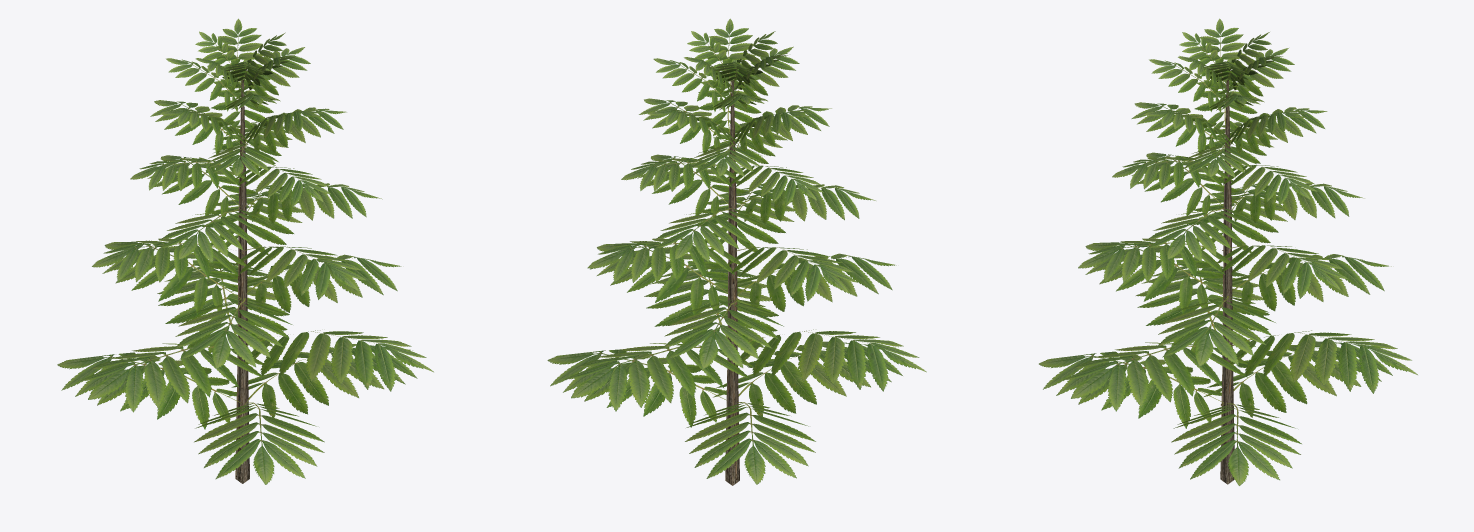
The model's file is plant4.FBX.
3 views of the same model, side by side, from view 1: azimuth 30°, elevation 25°; view 2: azimuth 150°, elevation 25°; view 3: azimuth 270°, elevation 25° (orthographic).
Parts seen in each view (by area): view 1: Cylinder001; view 2: Cylinder001; view 3: Cylinder001.
Boxes of the visible parts, x1,y1,x2,y2 form: Cylinder001: (57, 18, 433, 484); Cylinder001: (547, 18, 926, 485); Cylinder001: (1039, 18, 1417, 485).
Bounding box in the file's own units: 3.17 × 3.47 × 3.31.
